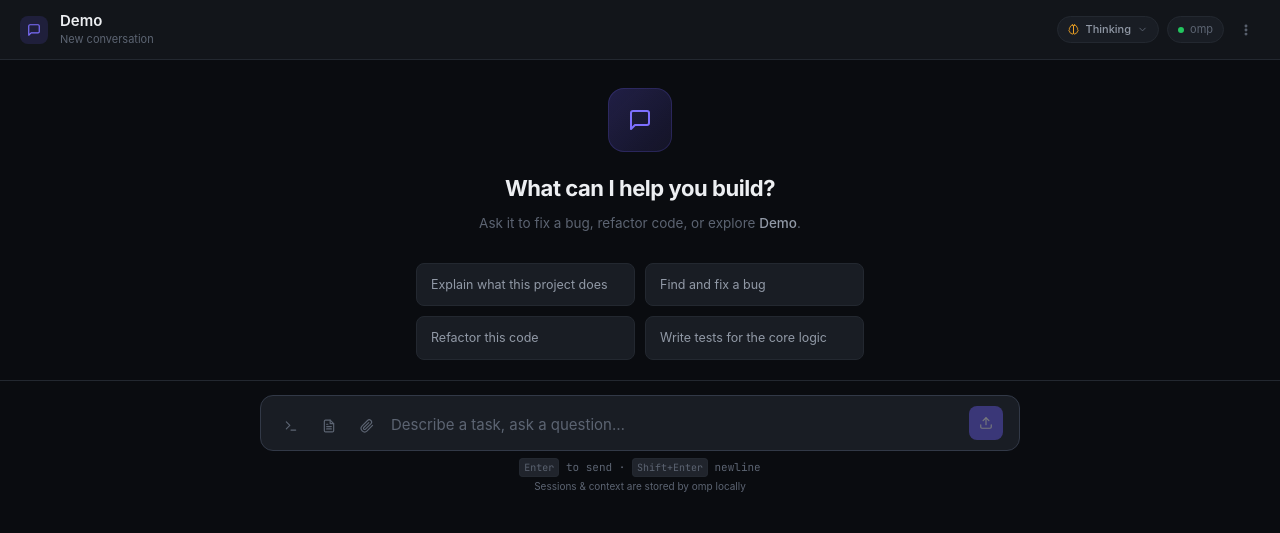
Test: AgentChat › renders streamed deltas (buffered + flushed) without losing them
Type "stream test" into the text box with placeholder "Describe a task, ask a question…". click: (675, 425)
box: [391,410,959,440]
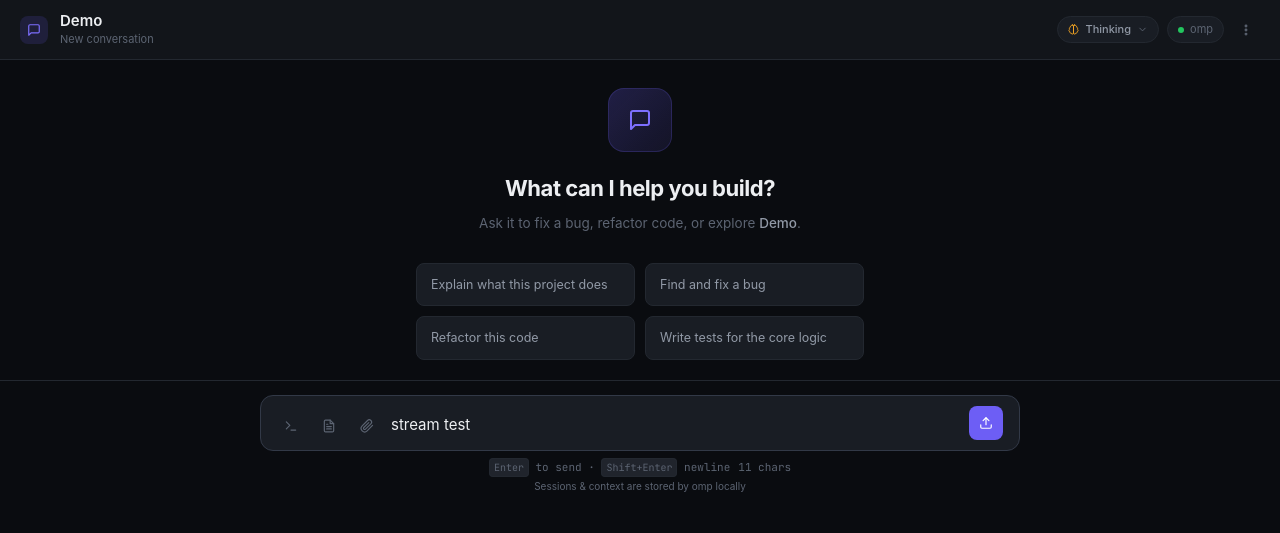
Click the button named "Send message". click: (986, 423)
box: [969,406,1003,440]
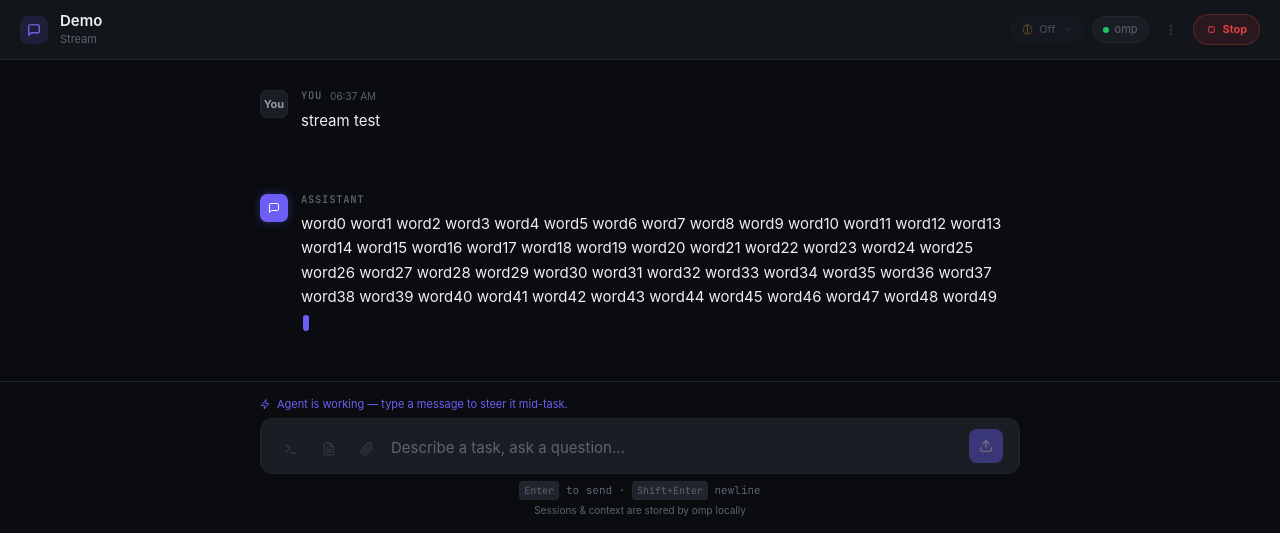
Expected: the text "stream test" is shown, [301,111,380,130]
Expected: the text "word0" is shown, [301,214,1001,306]
